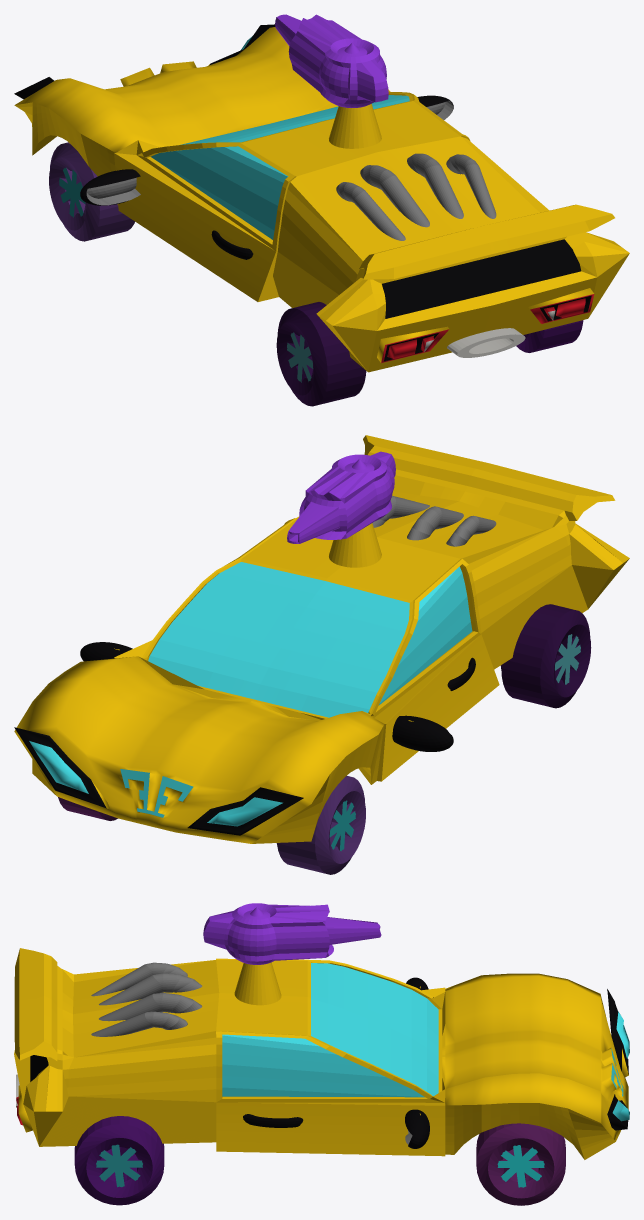
Rendered from Velyxor.fbx.
3 views of the same model, one above another, from view 1: azimuth 30°, elevation 25°; view 2: azimuth 150°, elevation 25°; view 3: azimuth 270°, elevation 25° (orthographic). The views are drawn at different scales.
Visible parts, largest first — view 1: Cube, Sphere, Cylinder.002, Cylinder.003, Cylinder.001; view 2: Cube, Cylinder.002, Sphere, Cylinder.003; view 3: Cube, Sphere, Cylinder.001, Cylinder.
Boxes of the visible parts, <box> form: Cube: <box>14,24,629,372</box>; Sphere: <box>275,14,388,107</box>; Cylinder.002: <box>276,302,366,406</box>; Cylinder.003: <box>49,142,134,241</box>; Cylinder.001: <box>516,320,583,352</box>; Cube: <box>14,435,629,843</box>; Cylinder.002: <box>500,604,591,708</box>; Sphere: <box>287,451,395,543</box>; Cylinder.003: <box>276,776,365,874</box>; Cube: <box>14,948,629,1159</box>; Sphere: <box>203,903,381,964</box>; Cylinder.001: <box>74,1116,164,1205</box>; Cylinder: <box>476,1123,565,1205</box>.
Bounding box in the file's own units: 483 × 338 × 778.
